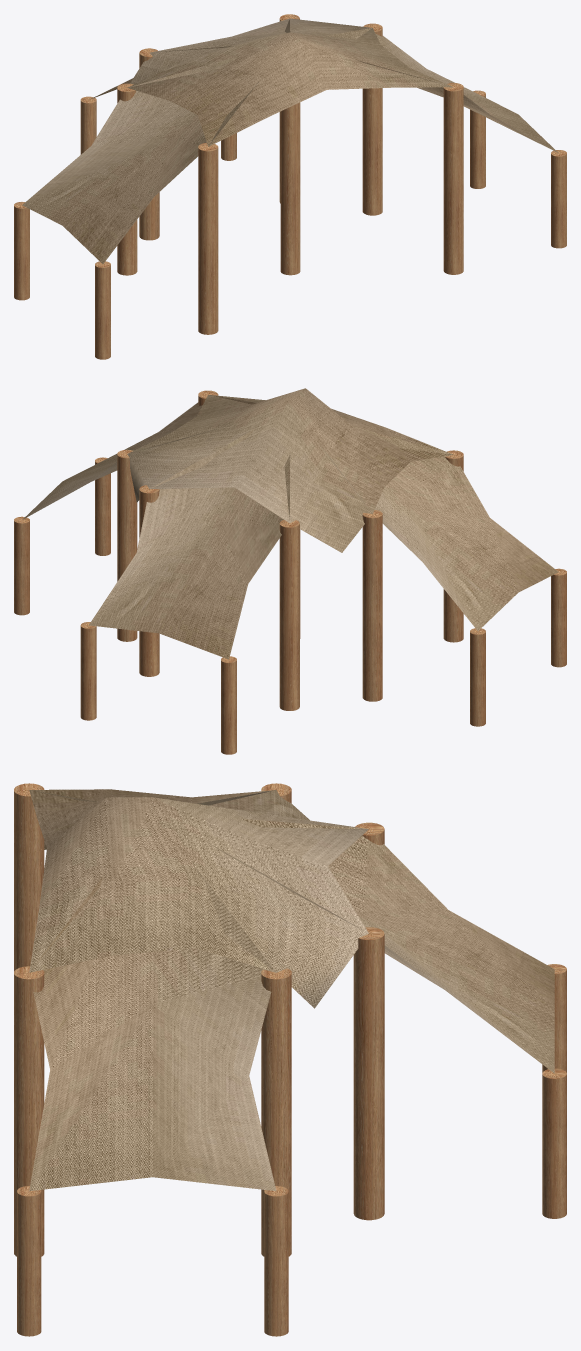
The model's file is Tent2_1.2.fbx.
The picture shows the model from 3 angles, top to bottom: view 1: azimuth 30°, elevation 25°; view 2: azimuth 150°, elevation 25°; view 3: azimuth 270°, elevation 25°; orthographic projection. The views are drawn at different scales.
Parts seen in each view (by area): view 1: Poles, Tent_main, Tent_sub_1, Tent_sub_2; view 2: Tent_main, Poles, Tent_sub_3, Tent_sub_1, Tent_sub_2; view 3: Tent_sub_2, Tent_main, Poles, Tent_sub_3.
Part boxes in pixels (x1,y1,x2,y2): Poles: (14,14,566,359); Tent_main: (127,18,453,146); Tent_sub_1: (22,55,258,263); Tent_sub_2: (323,28,558,152); Tent_main: (127,388,452,552); Poles: (14,390,566,754); Tent_sub_3: (89,428,290,659); Tent_sub_1: (317,426,558,630); Tent_sub_2: (22,395,256,519); Tent_sub_2: (29,868,276,1191); Tent_main: (29,789,368,1008); Poles: (14,783,566,1336); Tent_sub_3: (207,818,554,1073).
Bounding box in the file's own units: 268 × 130 × 179.
Materials: 2 (2 with a texture image).
